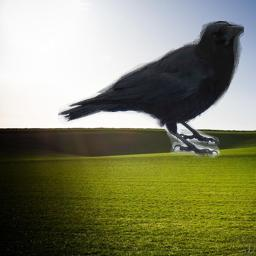Crow: (58, 21, 244, 158)
